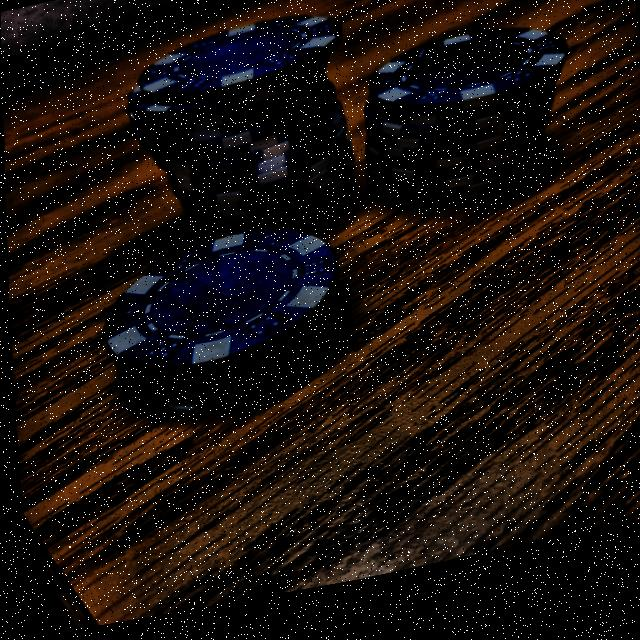Chip: (76, 185, 368, 473), (109, 0, 374, 280), (353, 16, 583, 254)
